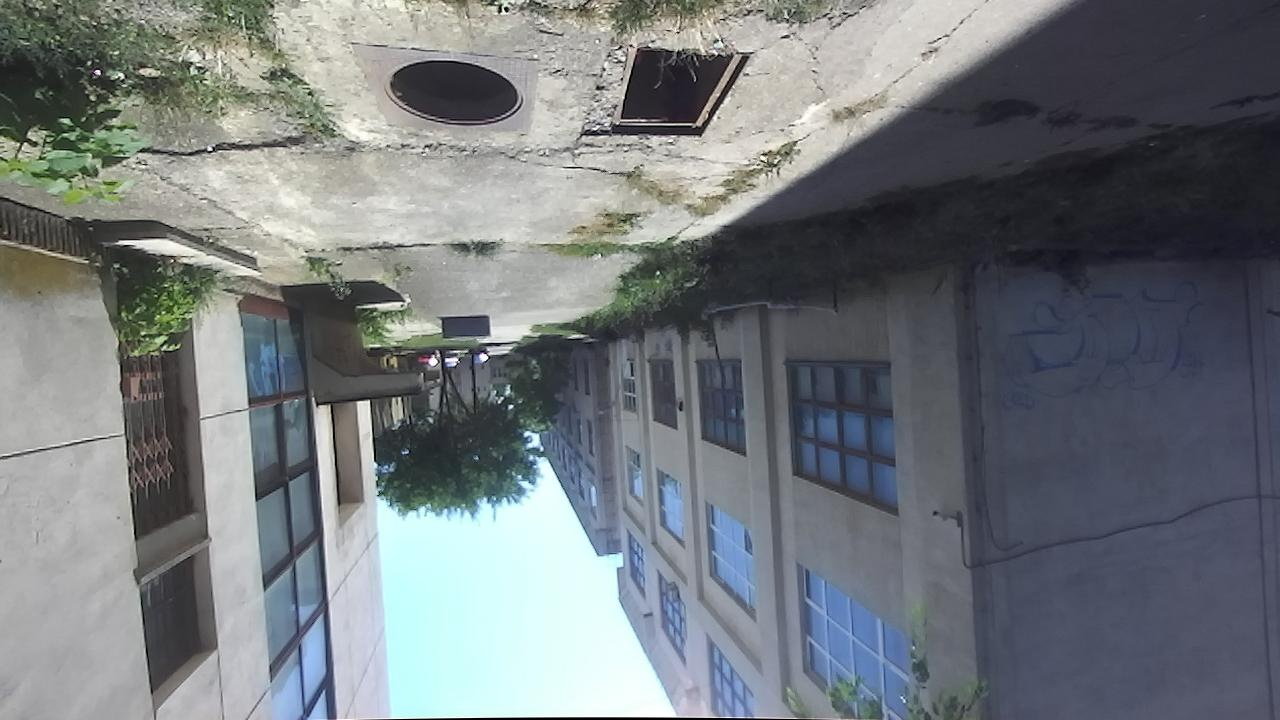drain: (607, 45, 758, 142), (379, 56, 527, 132)
